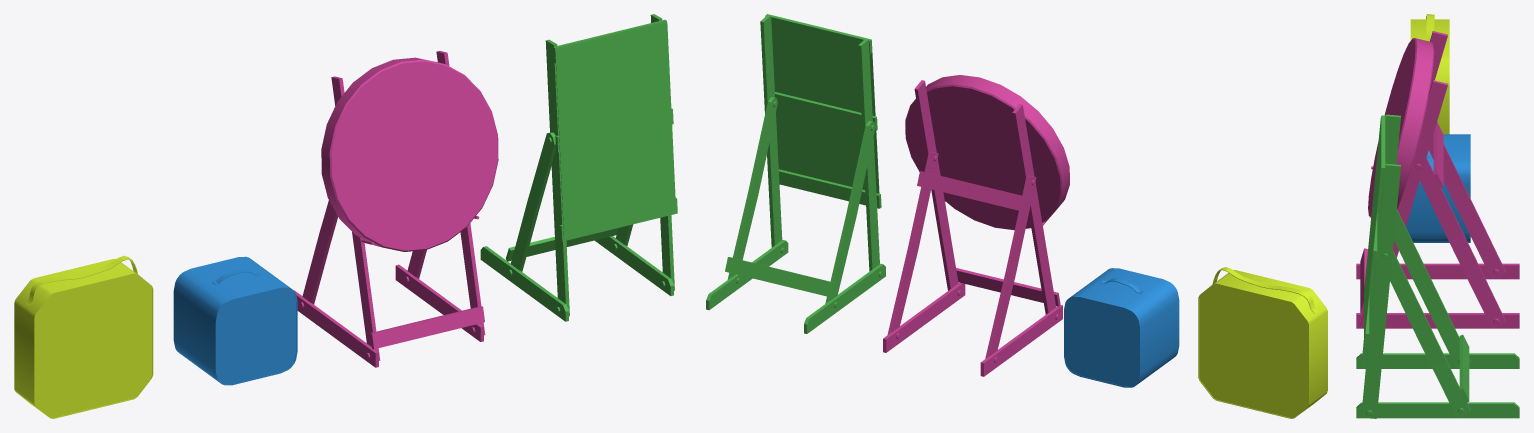
Rendered from Archery Targets FBX.FBX.
The picture shows the model from 3 angles, left to right: view 1: azimuth 30°, elevation 25°; view 2: azimuth 150°, elevation 25°; view 3: azimuth 270°, elevation 25°; orthographic projection. The views are drawn at different scales.
Parts seen in each view (by area): view 1: Archery Target, Rifle Target, Foam Target Large, Foam Target Small; view 2: Archery Target, Rifle Target, Foam Target Large, Foam Target Small; view 3: Rifle Target, Archery Target, Foam Target Small, Foam Target Large.
Part boxes in pixels (box(x1,y1,x2,y2)): Archery Target: box(294, 51, 498, 367); Rifle Target: box(480, 14, 677, 321); Foam Target Large: box(14, 255, 153, 418); Foam Target Small: box(173, 256, 297, 385); Archery Target: box(883, 75, 1069, 376); Rifle Target: box(706, 14, 885, 333); Foam Target Large: box(1198, 267, 1327, 418); Foam Target Small: box(1064, 268, 1179, 387); Rifle Target: box(1356, 114, 1519, 418); Archery Target: box(1356, 31, 1519, 328); Foam Target Small: box(1406, 134, 1470, 242); Foam Target Large: box(1410, 14, 1449, 134).
Bounding box in the file's own units: 177 × 73.49 × 42.
